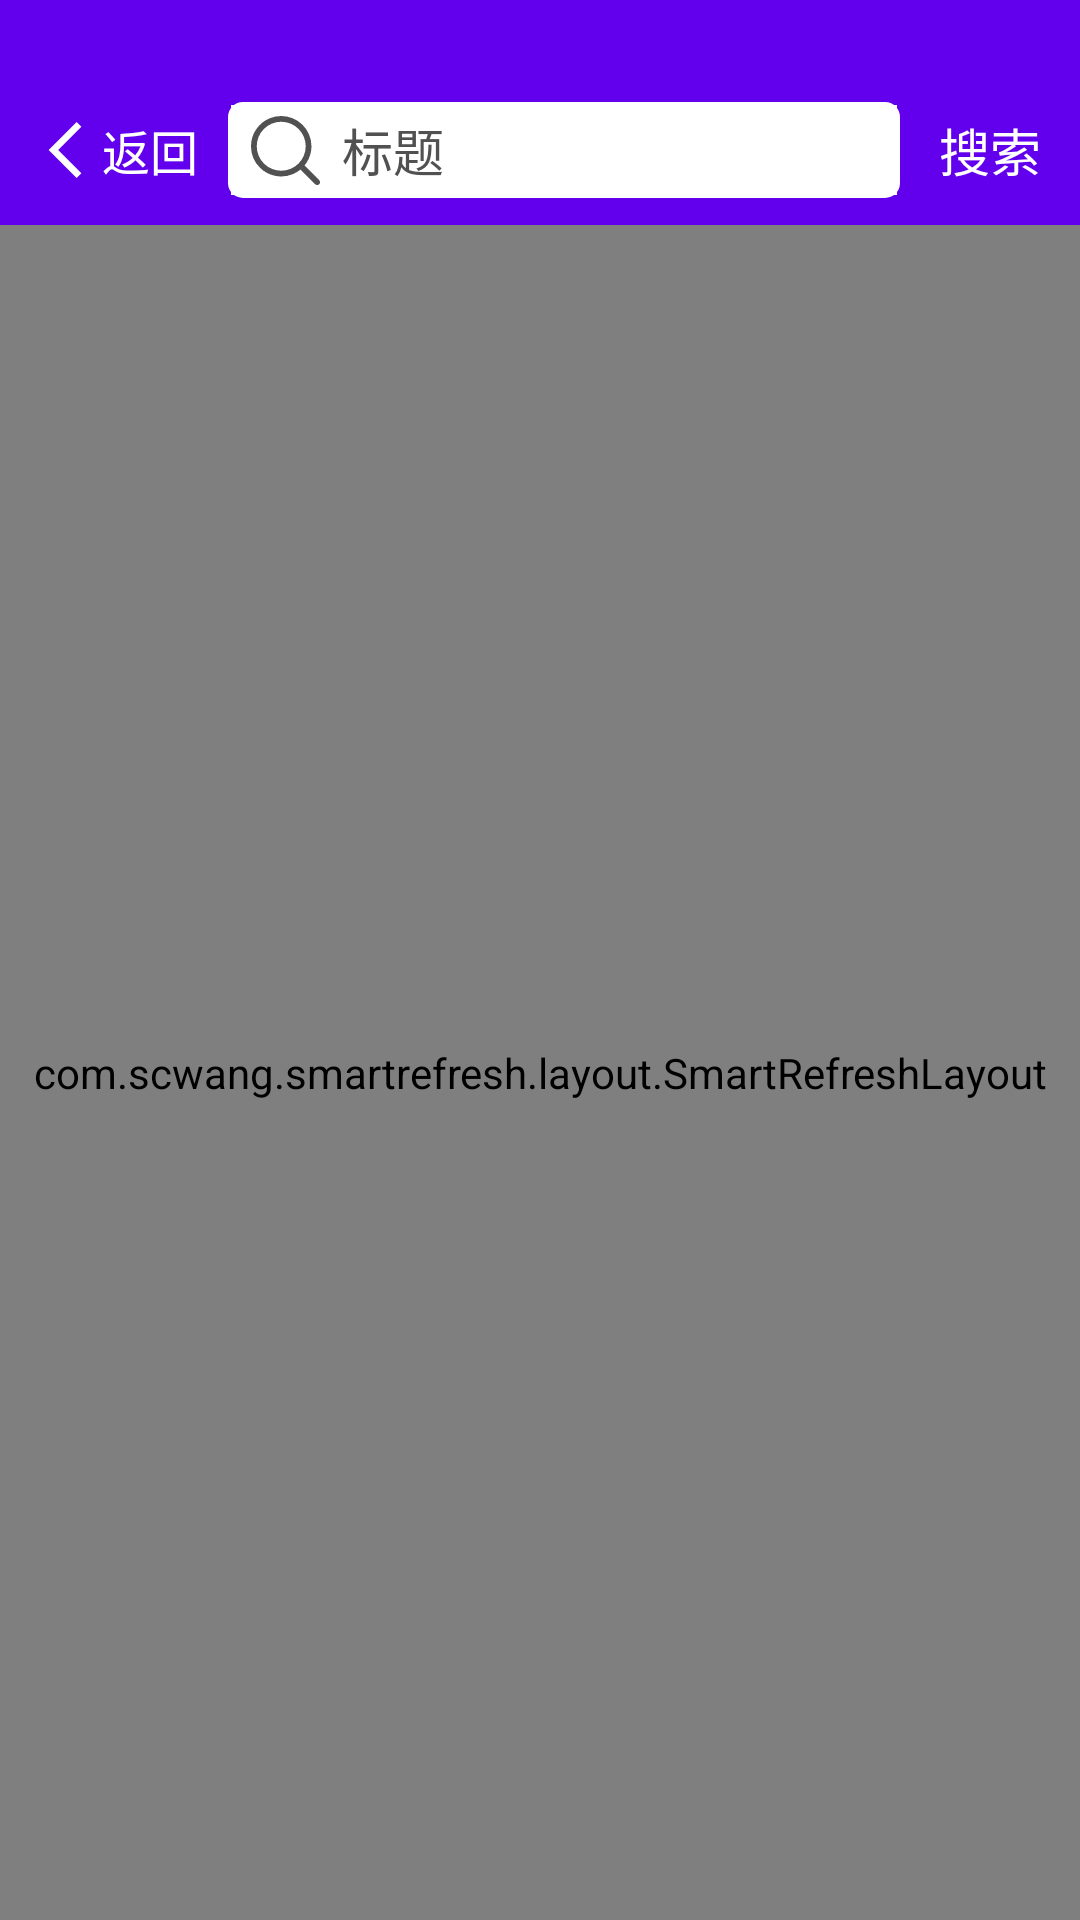

Named icons in this screenshot (1080*1920) and their centers, (x=x, y=y):
search: (x=285, y=150)
